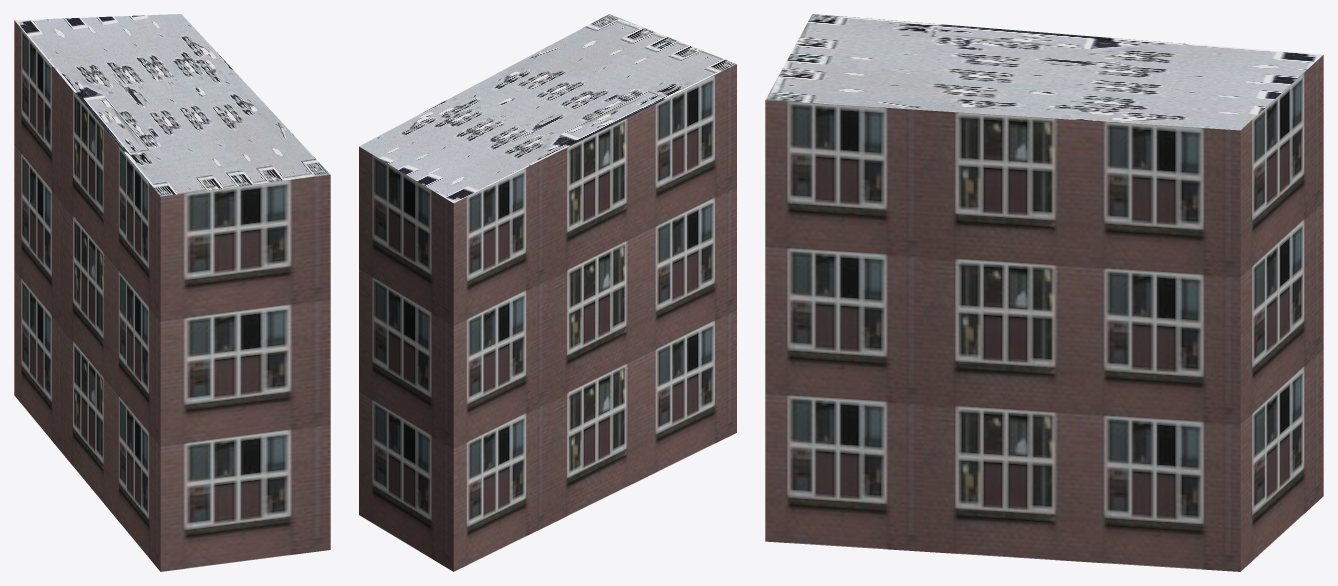
Rendered from ResTex__742.fbx.
The picture shows the model from 3 angles, left to right: view 1: azimuth 30°, elevation 25°; view 2: azimuth 150°, elevation 25°; view 3: azimuth 270°, elevation 25°; orthographic projection. The views are drawn at different scales.
Parts seen in each view (by area): view 1: CityEngineMaterial_12_m, CityEngineMaterial_m; view 2: CityEngineMaterial_12_m, CityEngineMaterial_m; view 3: CityEngineMaterial_12_m, CityEngineMaterial_m.
Part boxes in pixels (x1,y1,x2,y2): CityEngineMaterial_12_m: [14, 20, 330, 571]; CityEngineMaterial_m: [15, 14, 329, 196]; CityEngineMaterial_12_m: [359, 64, 736, 571]; CityEngineMaterial_m: [359, 14, 736, 203]; CityEngineMaterial_12_m: [765, 55, 1323, 571]; CityEngineMaterial_m: [765, 14, 1322, 130].
Size of the model in its own units: 5.09 by 9 by 10.31.
2 materials, 2 textured.
